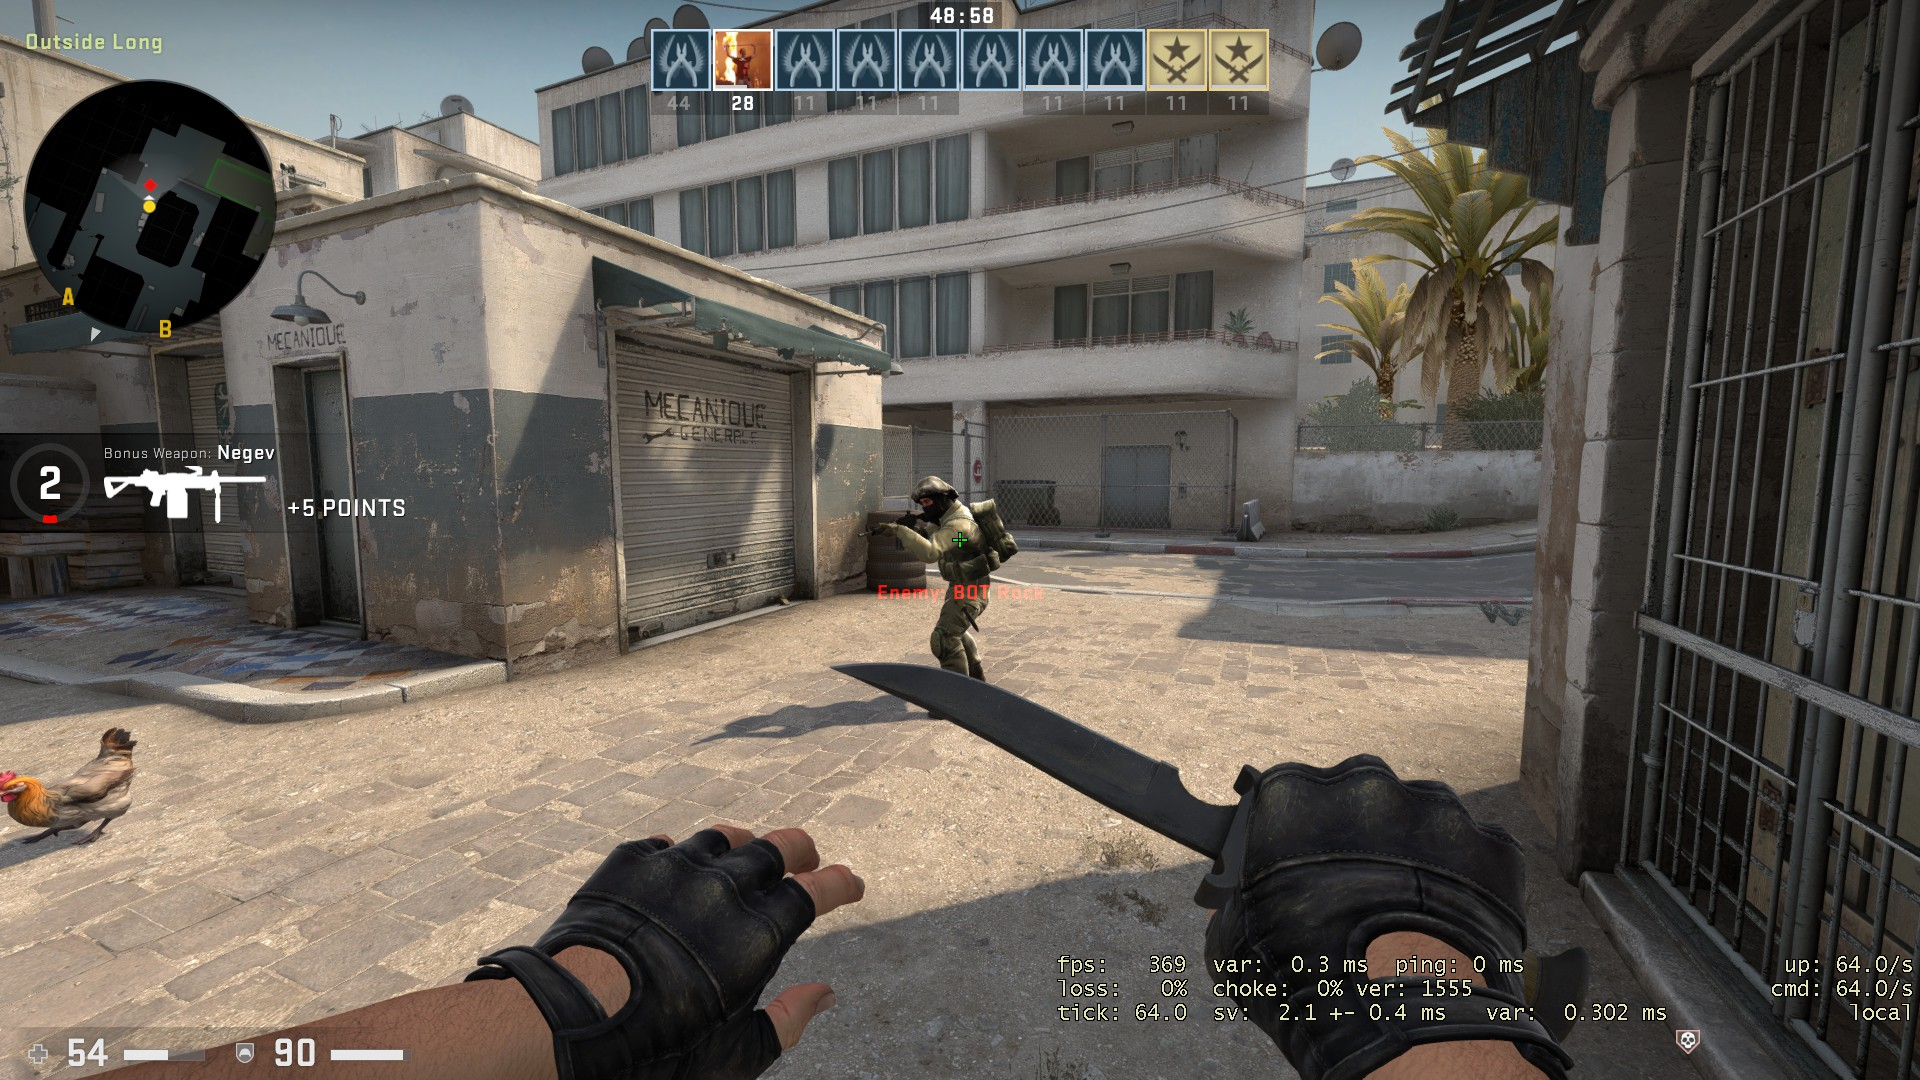player: (848, 460, 1019, 730)
